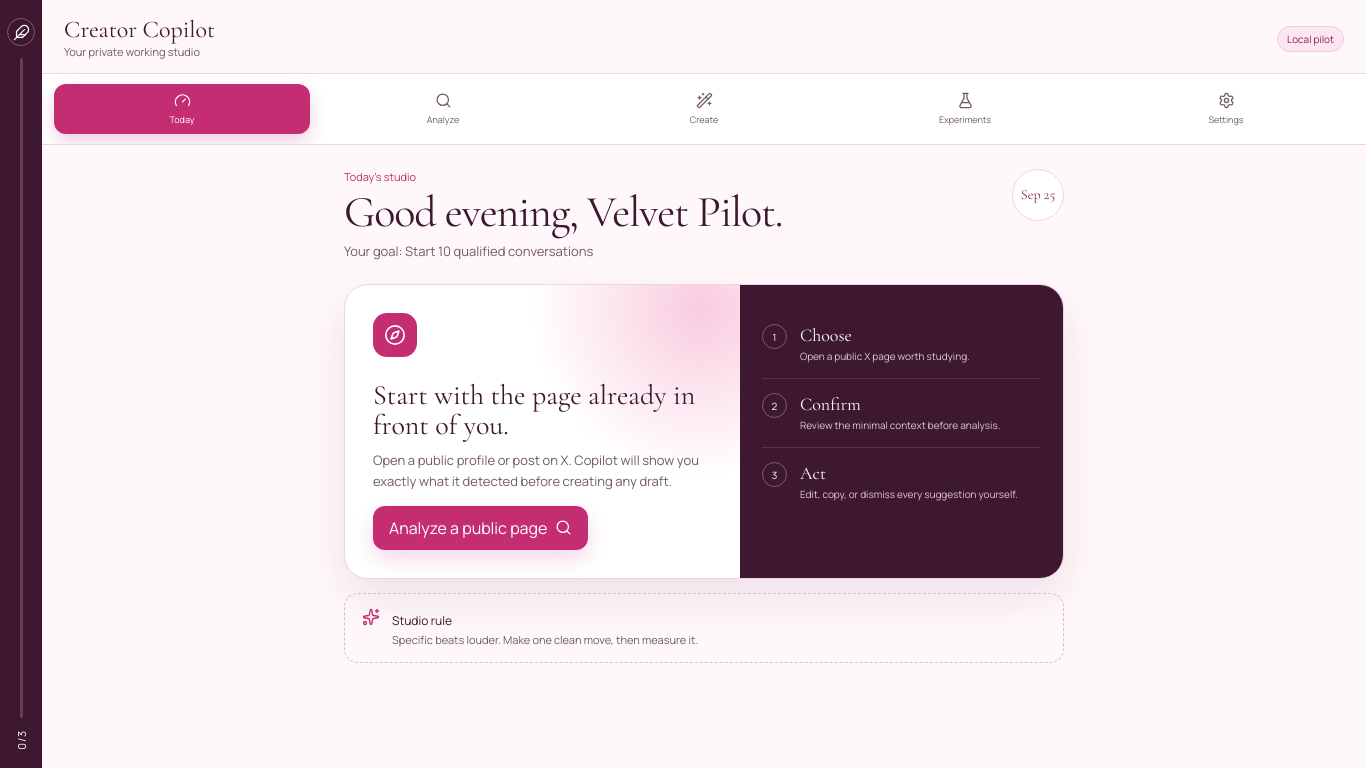
App › previews extracted context before creating drafts
Click the button "Analyze".
click(443, 109)  # box [315,84,571,134]
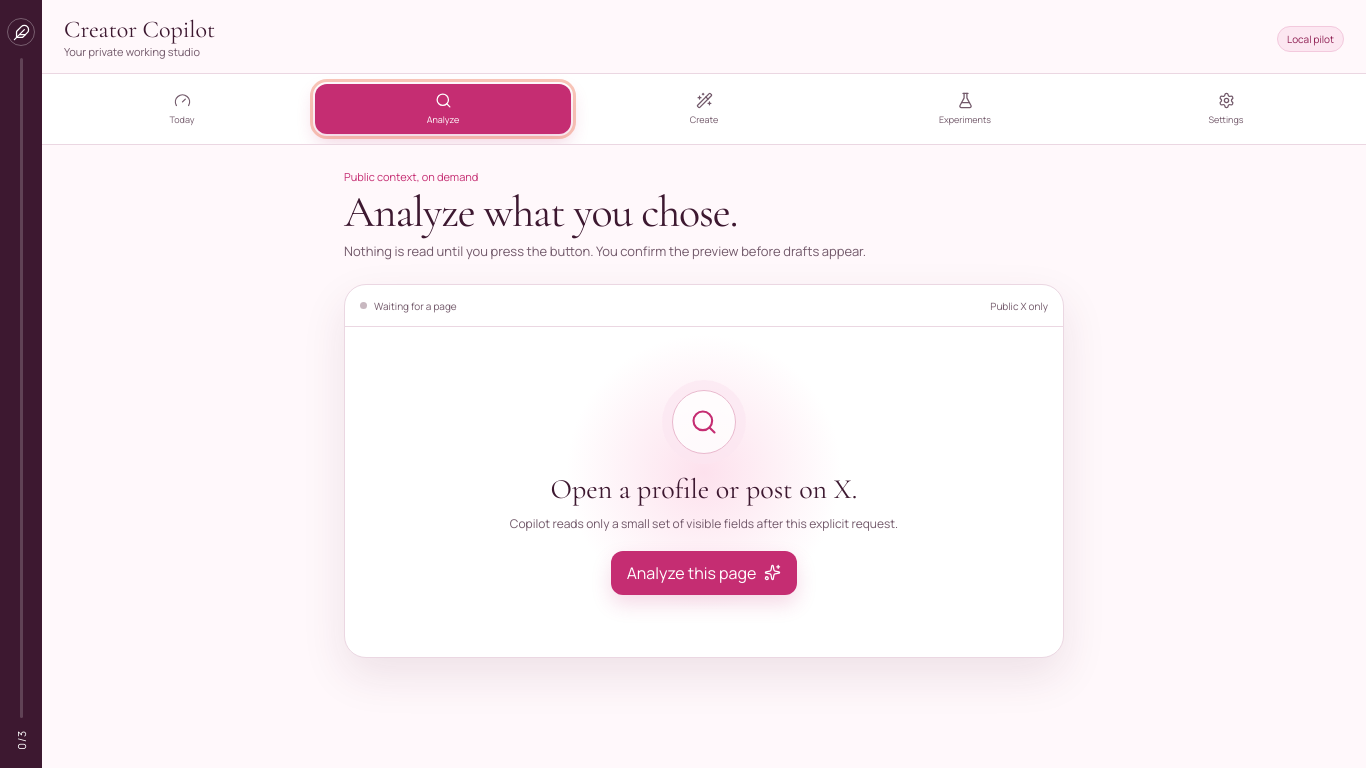
Click the button "Analyze this page".
click(704, 573)  # box [611,551,797,595]
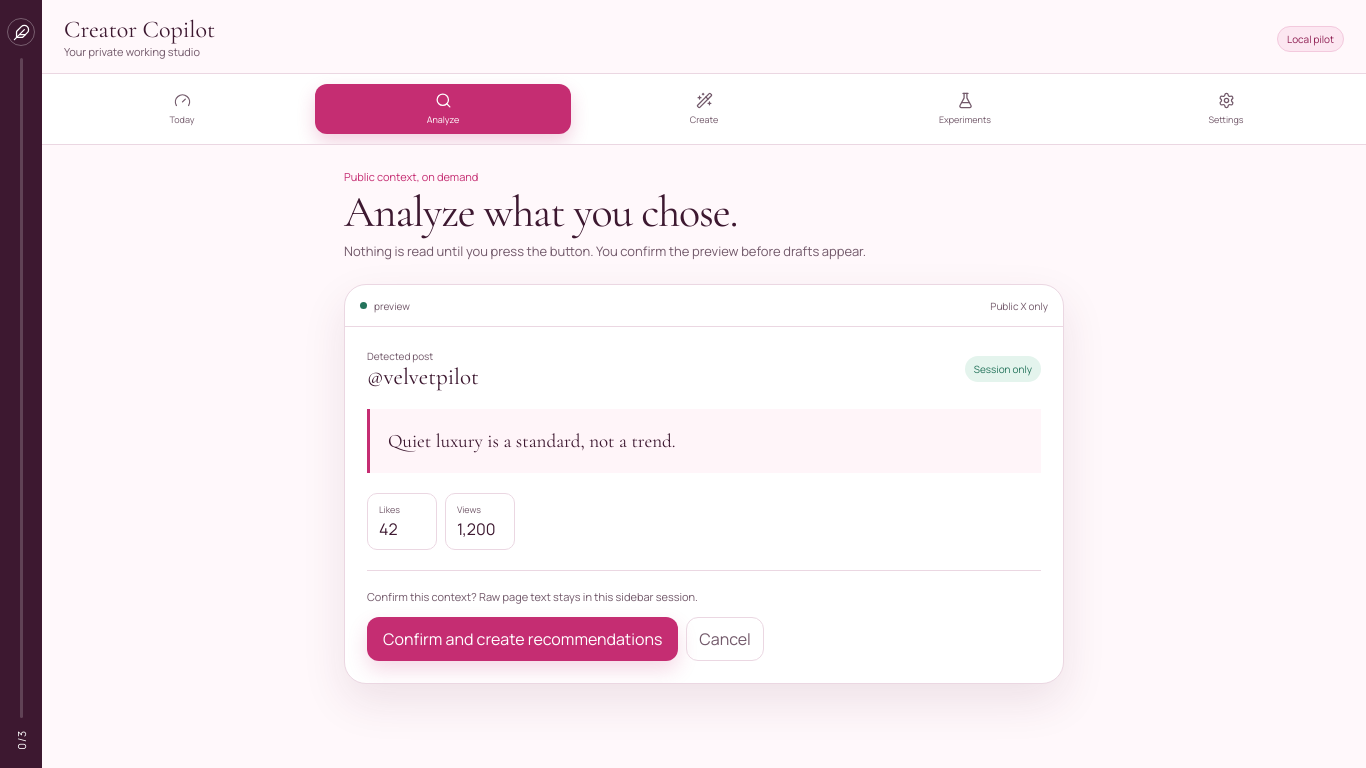
expect the text "Quiet luxury is a standard, not a trend." is shown: met, box [367,409,1041,473]
expect the button "Confirm and create recommendations" is shown: met, box [367,617,678,661]
